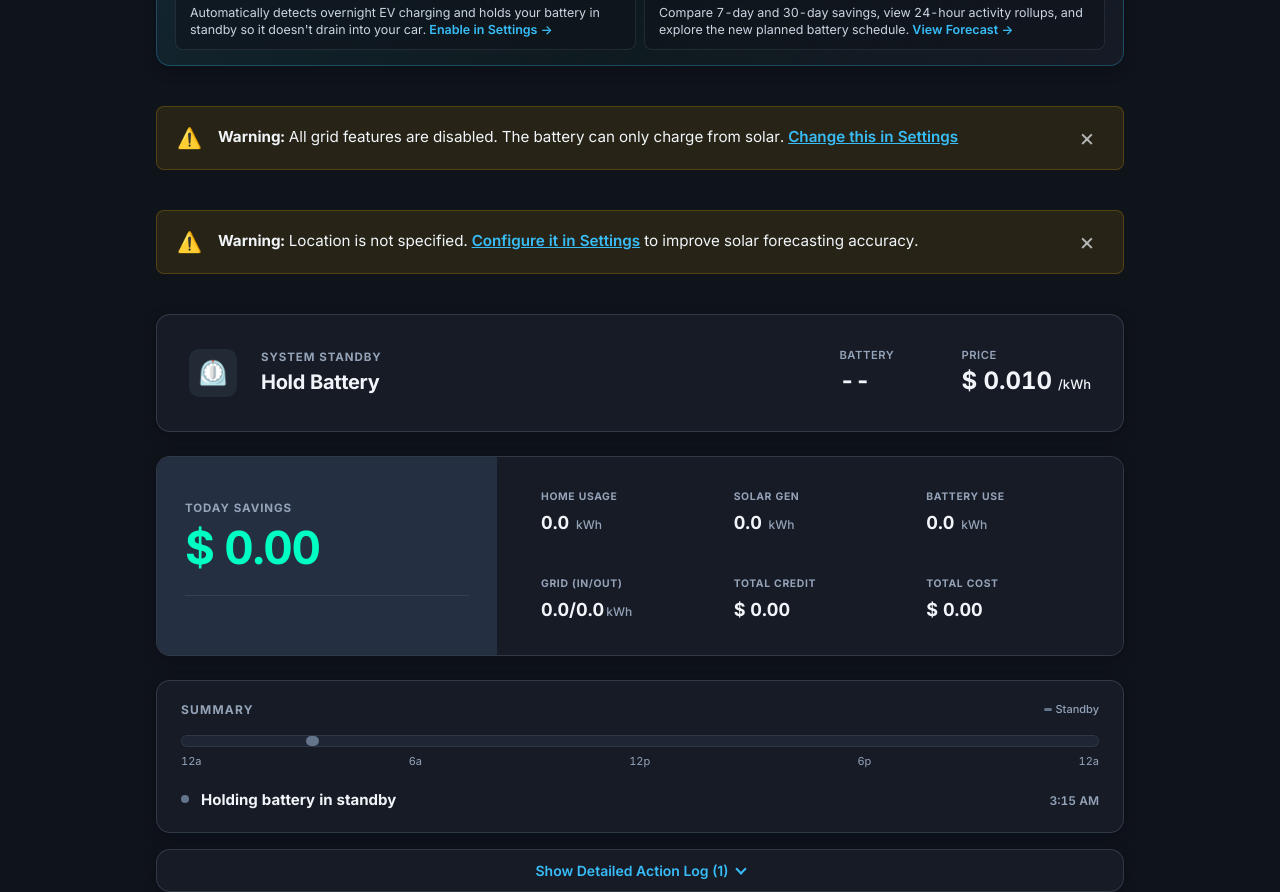
Test case: Dashboard › renders dry run badge
(page scrolled)
Click the button "Show Detailed Action Log (1)". click: {"x": 640, "y": 870}
box: left=156, top=848, right=1124, bottom=891
(page scrolled)
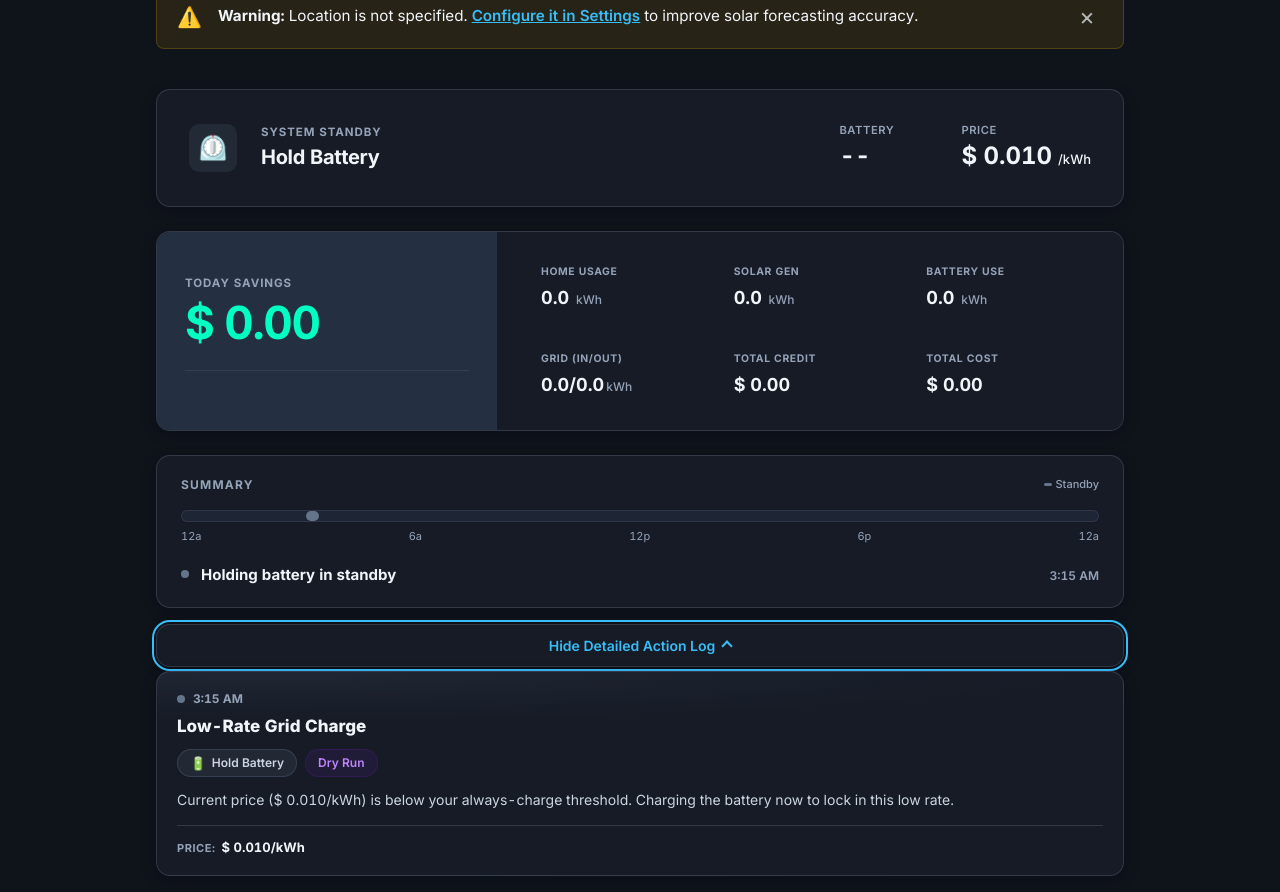
Result: the text "Dry Run" is shown at left=305, top=749, right=378, bottom=777
